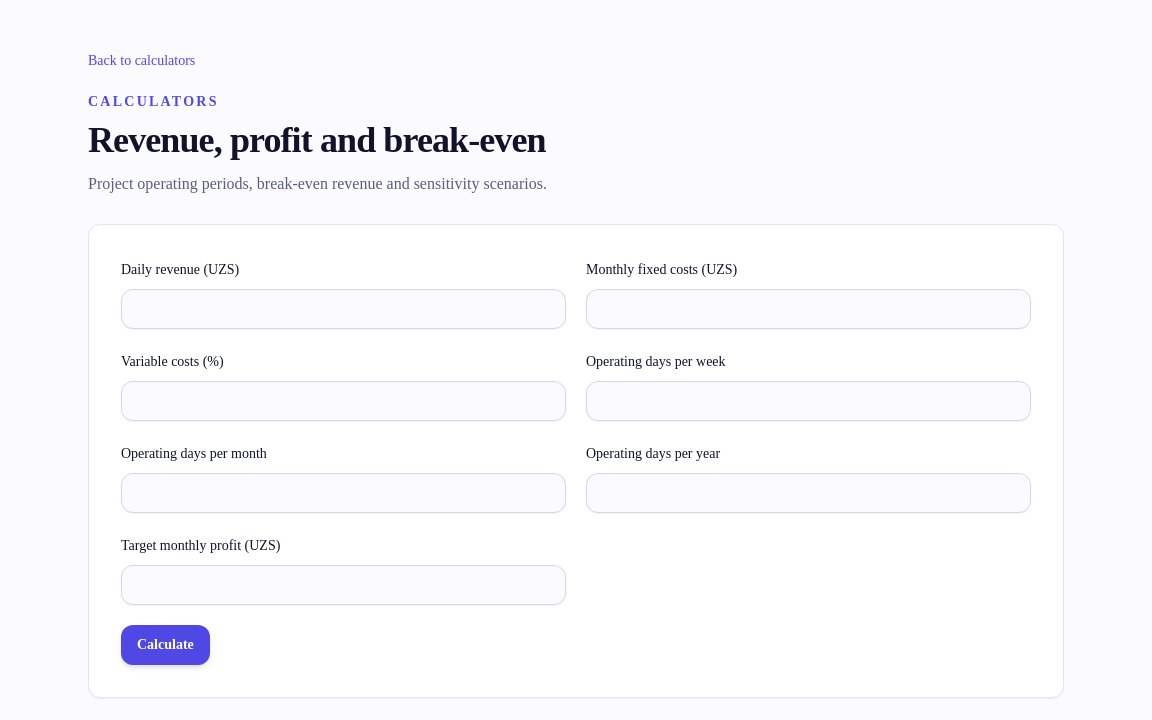
Test: calculator workspace › shows revenue projections, break-even and a visual period comparison
This screenshot has width=1152, height=720.
Type "1000" into the number field labelled "Daily revenue (UZS)". click: (344, 309)
box: [121,289,566,329]
Type "5000" into the number field labelled "Monthly fixed costs (UZS)". click: (808, 309)
box: [586,289,1031,329]
Type "40" into the number field labelled "Variable costs (%)". click: (344, 401)
box: [121,381,566,421]
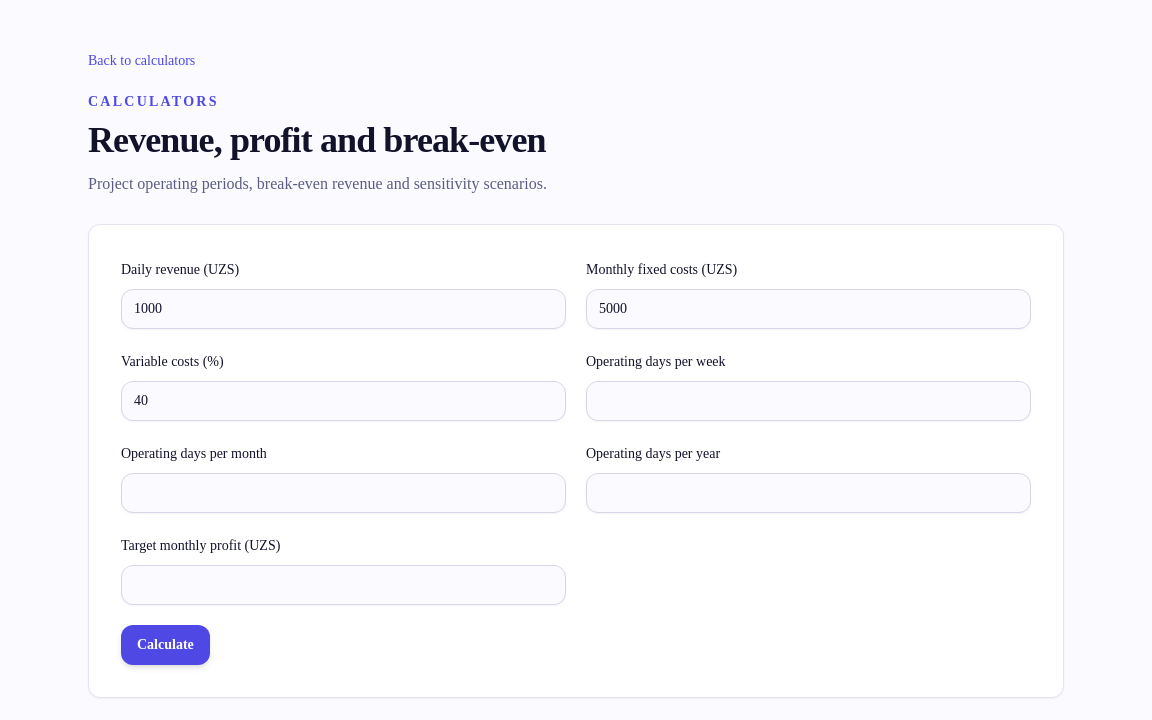
Type "6" into the number field labelled "Operating days per week". click: (808, 401)
box: [586,381,1031,421]
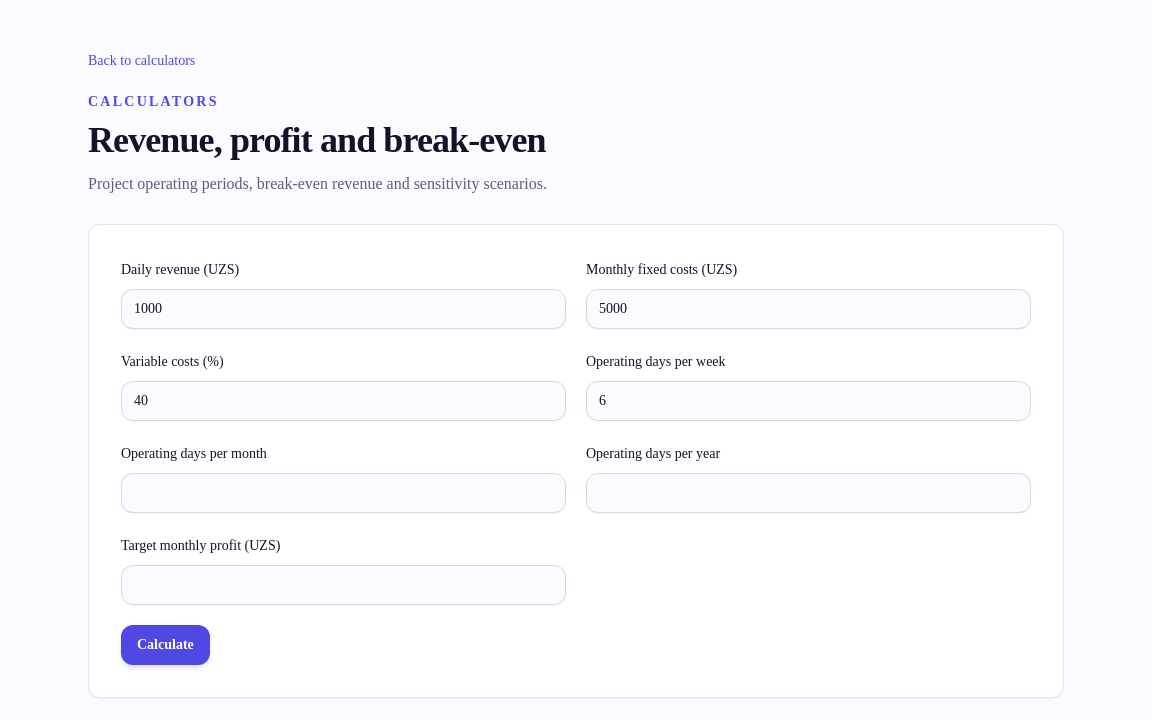
Type "26" into the number field labelled "Operating days per month". click: (344, 493)
box: [121,473,566,513]
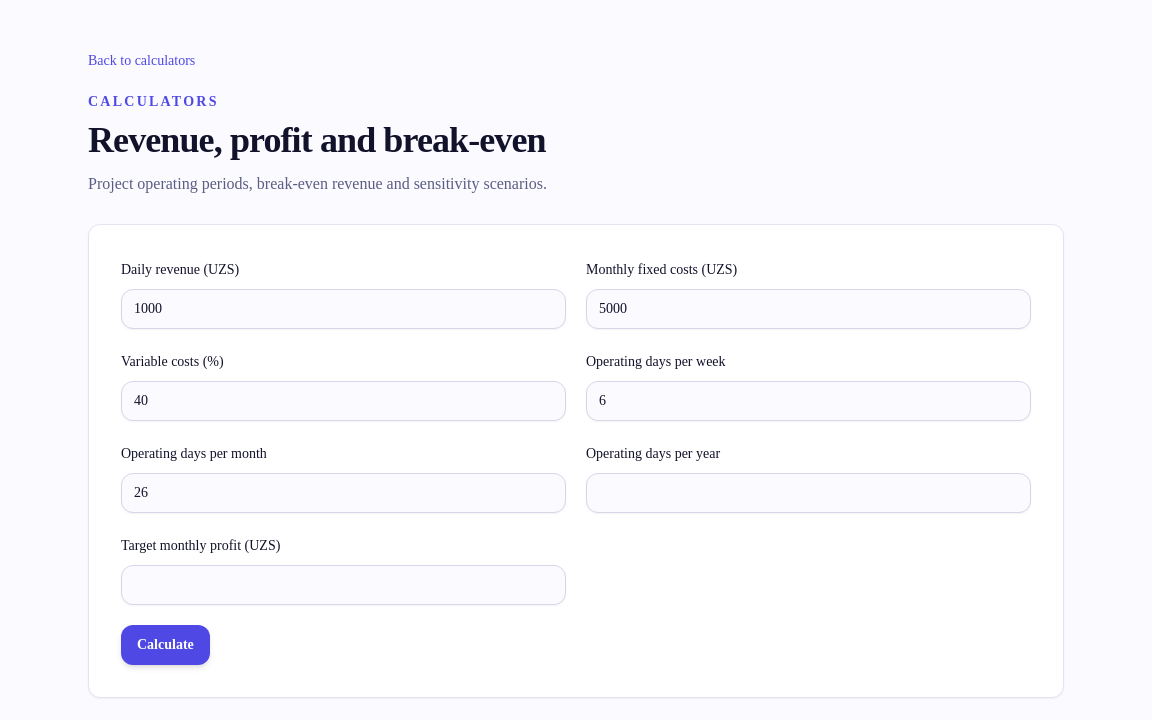
Type "312" into the number field labelled "Operating days per year". click: (808, 493)
box: [586,473,1031,513]
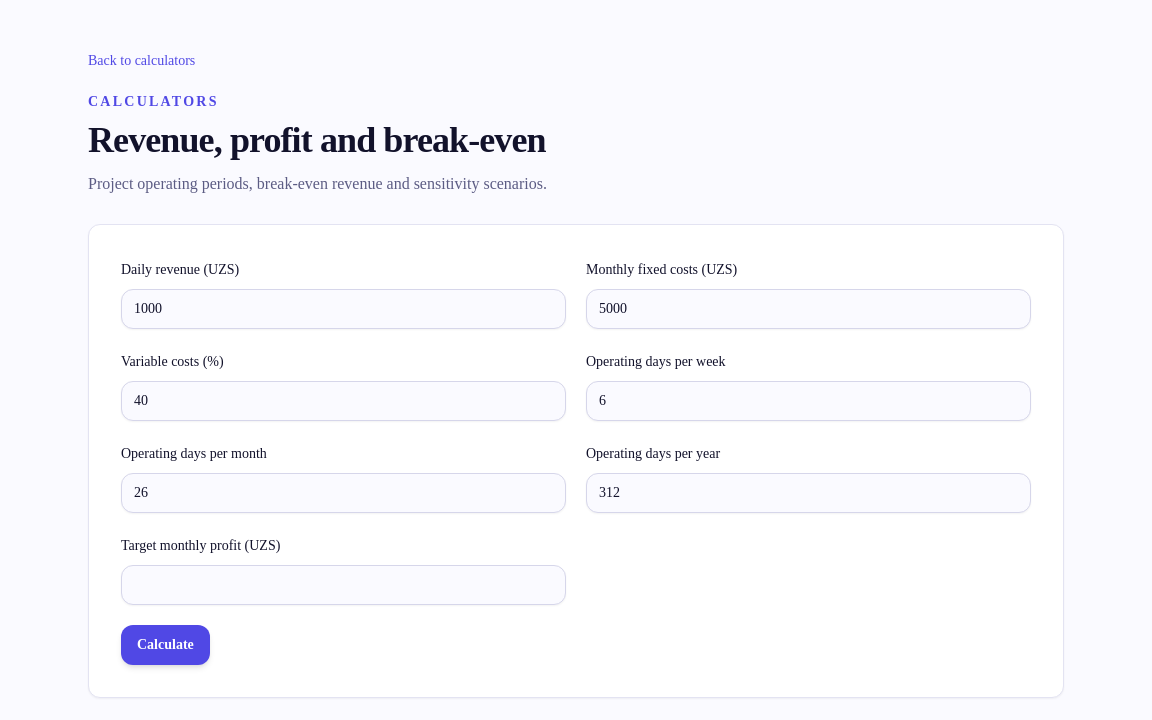
Type "10000" into the number field labelled "Target monthly profit (UZS)". click: (344, 585)
box: [121,565,566,605]
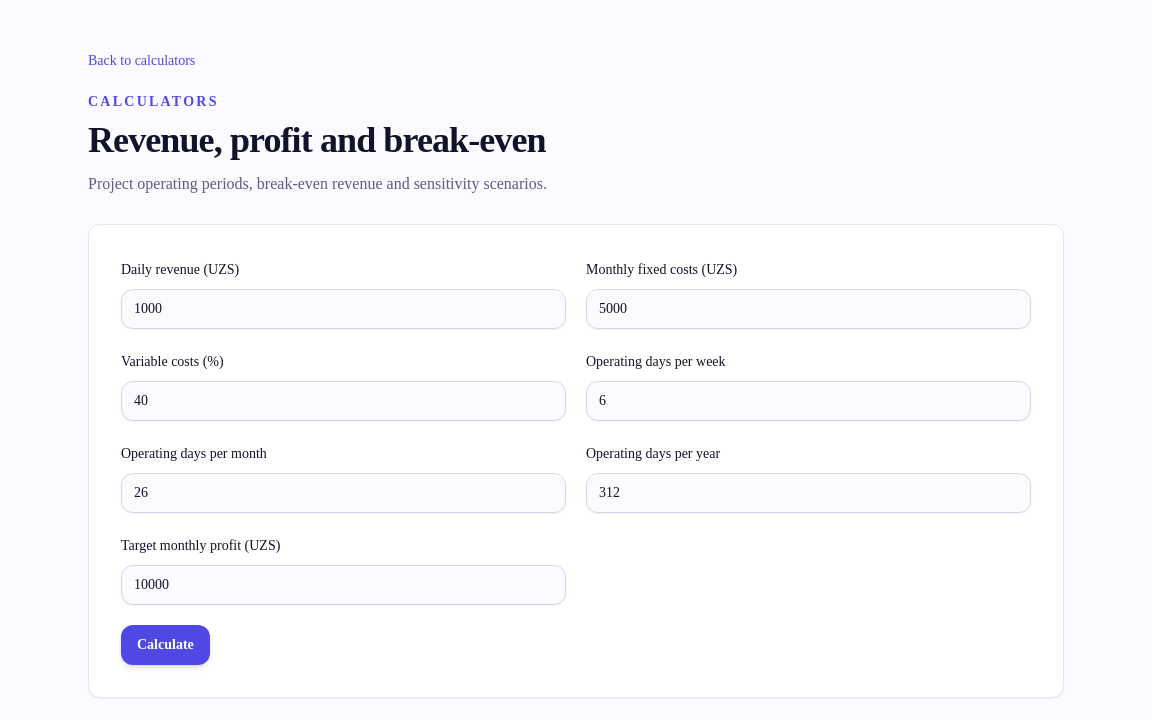
Click the button "Calculate". click: (165, 645)
box: [121,625,210,665]
(page scrolled)
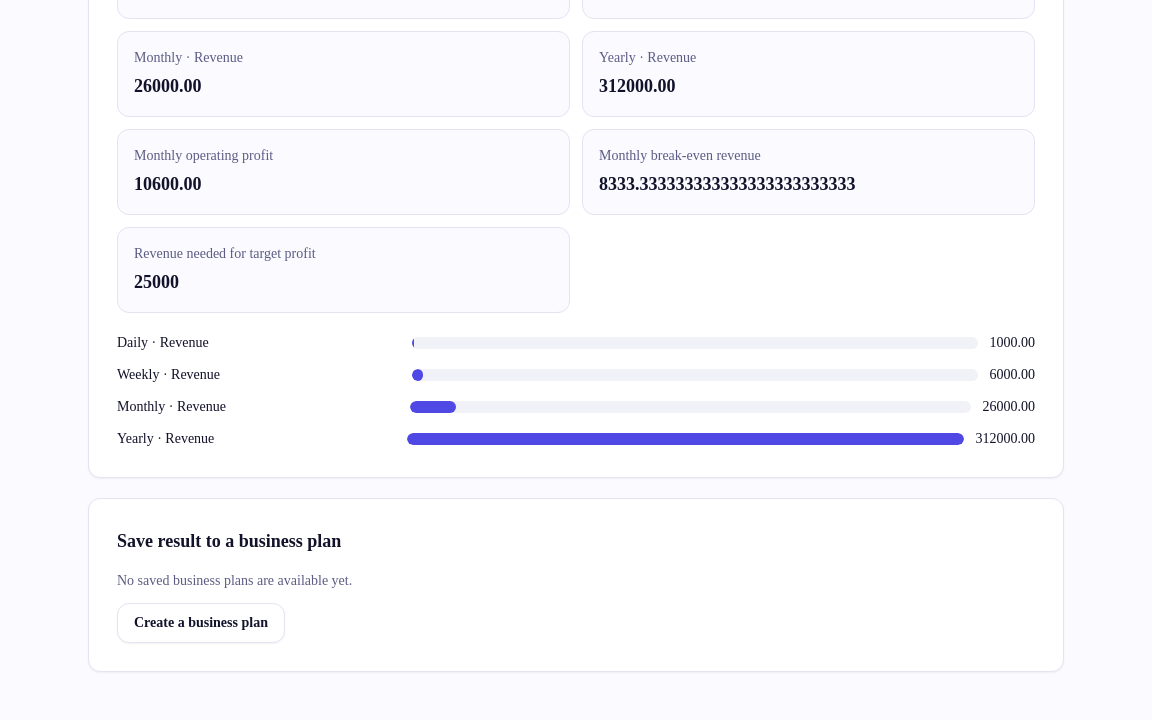
Result: the text "Monthly break-even revenue" is shown at [599,148,761,163]
Result: the text "8333.333333333333333333333333" is shown at [599,174,856,194]
Result: the picture named "Result chart" is shown at [117,333,1035,449]
